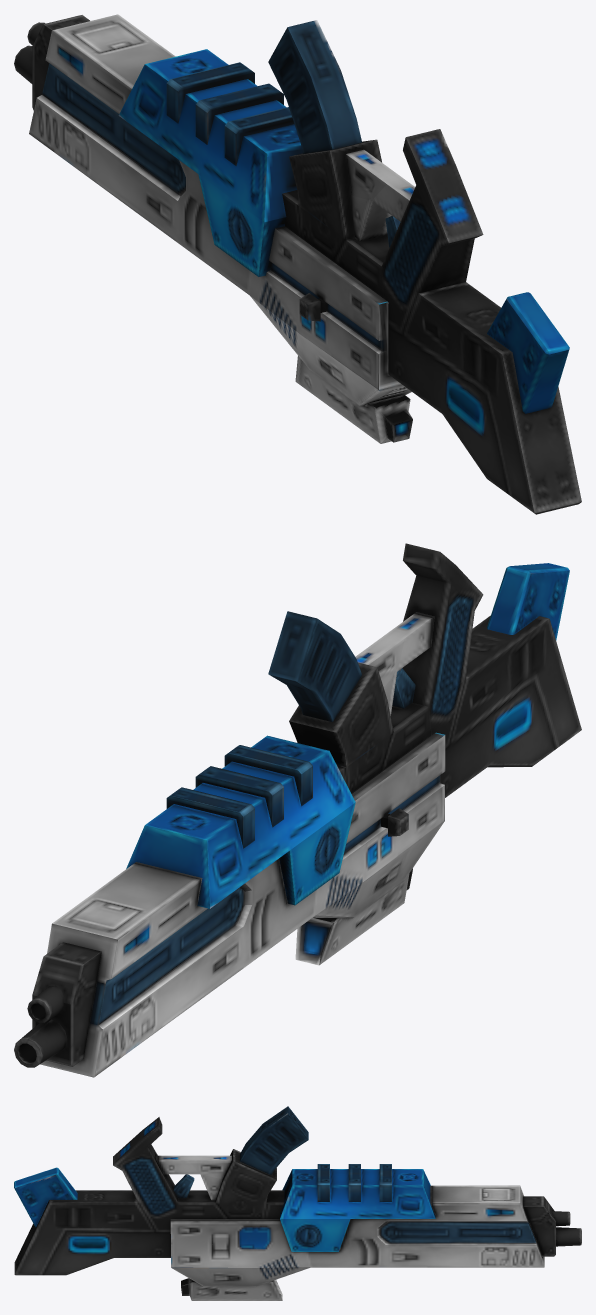
The model's file is PBR_HP_Mesh_AssaultRifle.fbx.
3 renders of one model, top to bottom at view 1: azimuth 30°, elevation 25°; view 2: azimuth 150°, elevation 25°; view 3: azimuth 270°, elevation 25°, orthographic. The views are drawn at different scales.
Parts seen in each view (by area): view 1: AssaultRifle; view 2: AssaultRifle; view 3: AssaultRifle.
Boxes of the visible parts, bbox=[...] form: AssaultRifle: bbox=[14, 14, 581, 514]; AssaultRifle: bbox=[14, 543, 581, 1077]; AssaultRifle: bbox=[14, 1106, 581, 1300].
Bounding box in the file's own units: 18.34 × 64.26 × 176.
